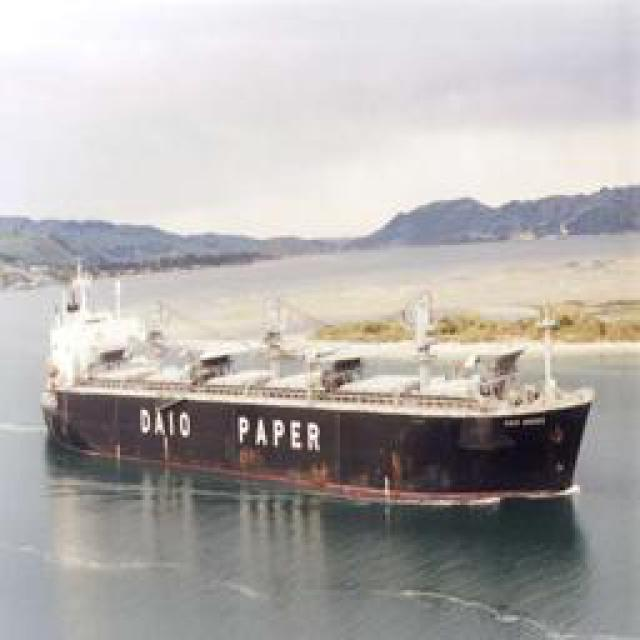Ship: (43, 286, 598, 496)
